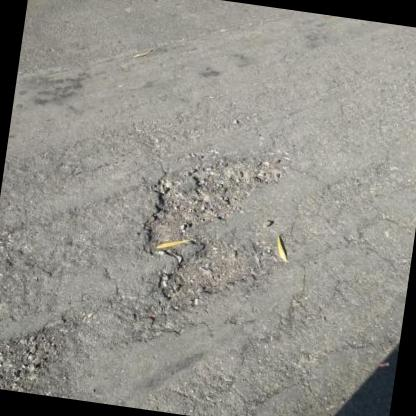pothole: (128, 142, 298, 318), (0, 313, 72, 396)
